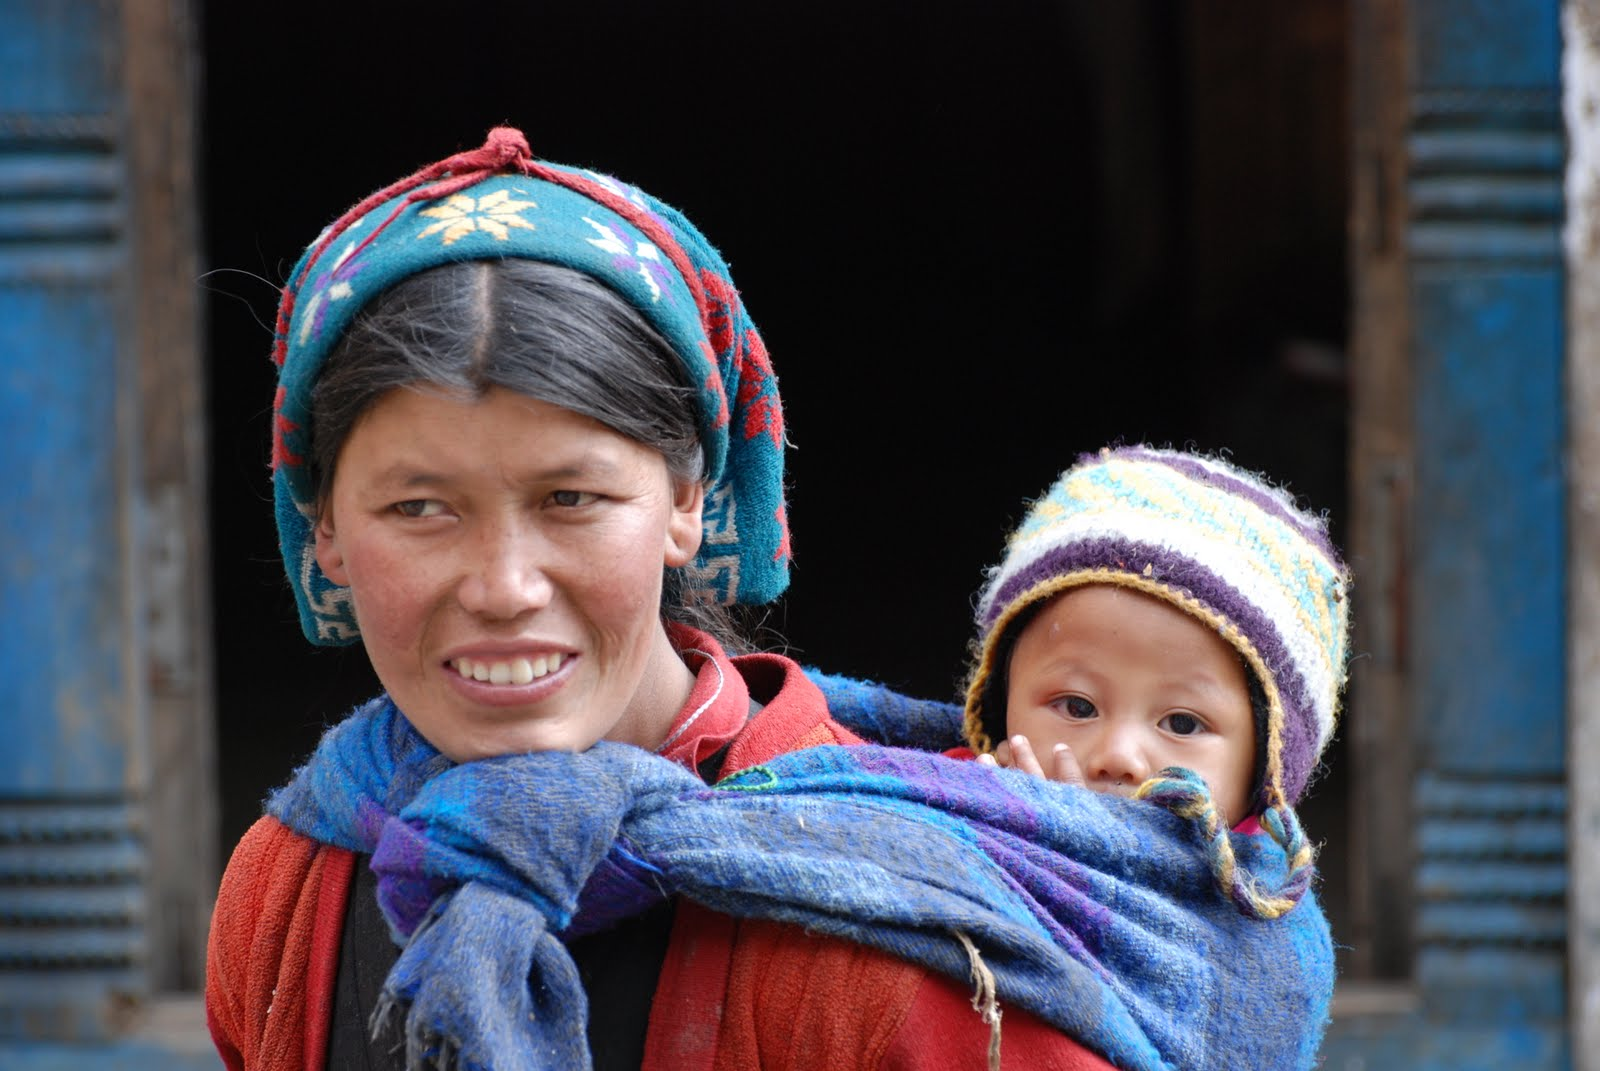human: (170, 108, 1145, 1071), (909, 406, 1372, 984)
